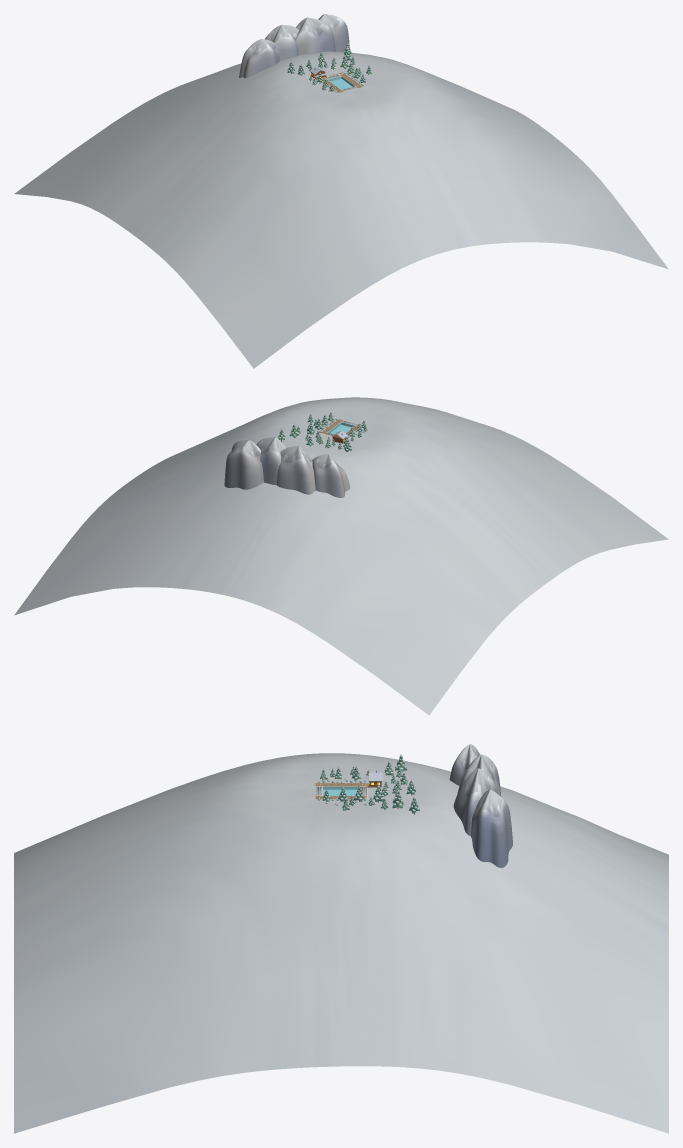
File: alpine.glb
The picture shows the model from 3 angles, top to bottom: view 1: azimuth 30°, elevation 25°; view 2: azimuth 150°, elevation 25°; view 3: azimuth 270°, elevation 25°; orthographic projection. The views are drawn at different scales.
Parts seen in each view (by area): view 1: Architecture, Wind; view 2: Architecture, Wind; view 3: Architecture, Wind.
Part boxes in pixels (box(x1,y1,x2,y2)): Architecture: box(14, 14, 668, 368); Wind: box(287, 43, 371, 92); Architecture: box(14, 397, 668, 715); Wind: box(278, 412, 367, 451); Architecture: box(14, 744, 668, 1133); Wind: box(318, 754, 419, 813).
Bounding box in the file's own units: 440 × 176 × 440.
